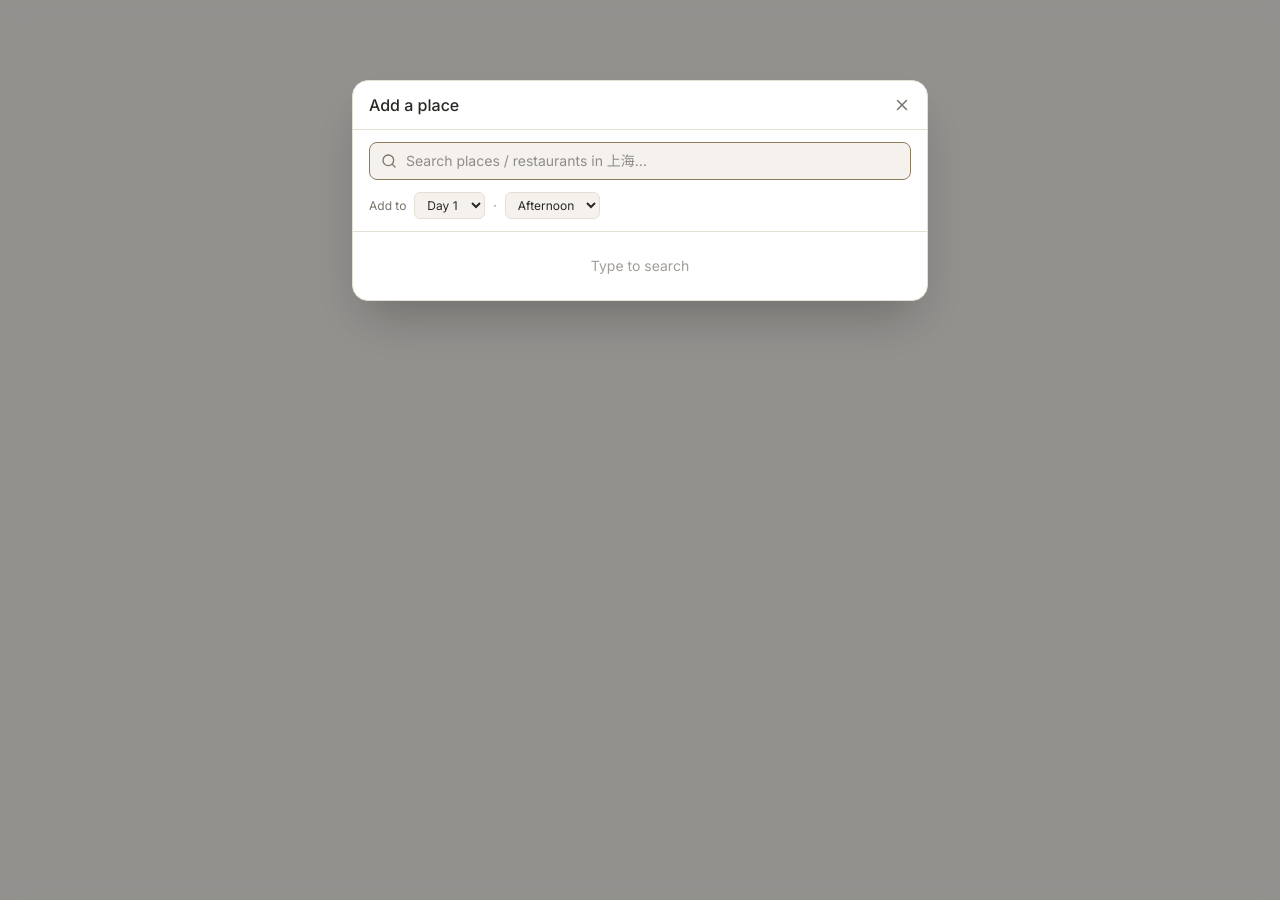
Test: PlaceSearchModal › debounces and renders search results
Step 1. Type "外滩" into the field with test id "search-input" → (640, 161), box [369,142,911,180]
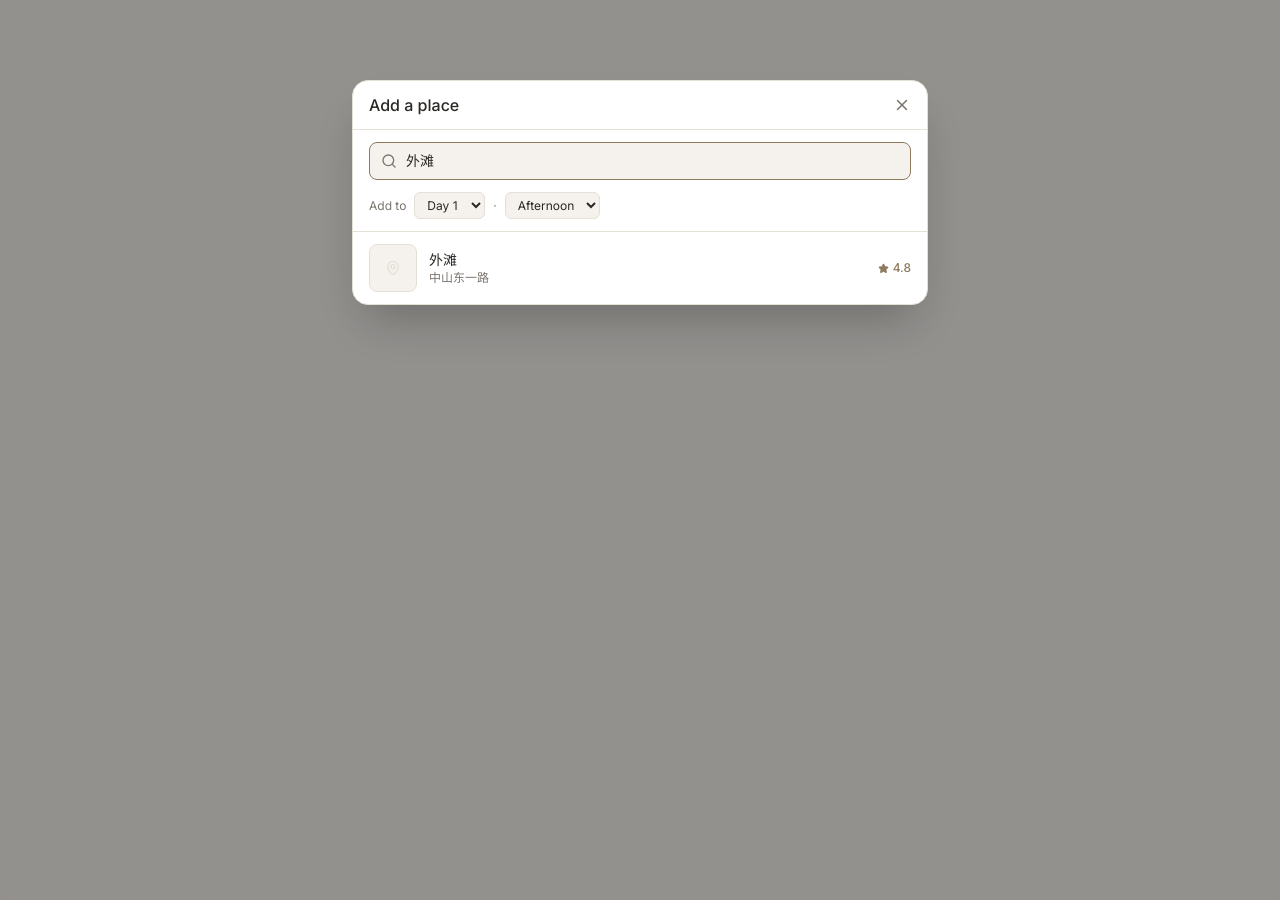
expect the button with test id "search-result-B0FF" is shown: met, box [353,232,927,304]
expect the text "外滩" is shown: met, box [429,251,457,268]
expect the text "4.8" is shown: met, box [893,260,911,276]
